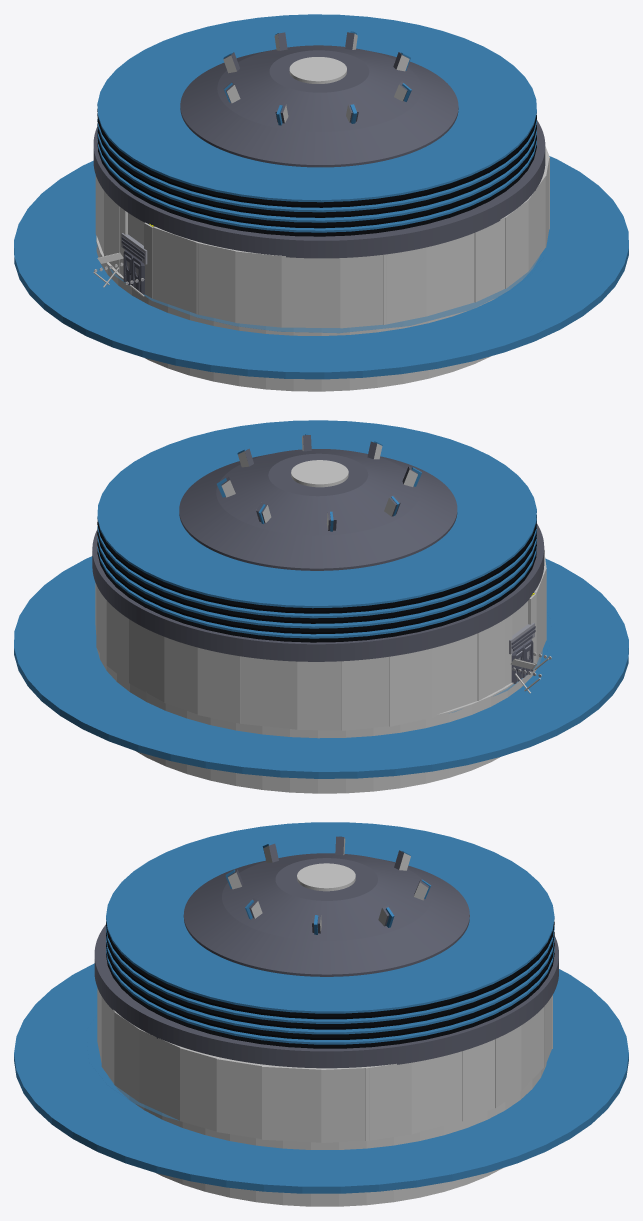
Rendered from Underground Laboratory.obj.
3 views of the same model, one above another, from view 1: azimuth 30°, elevation 25°; view 2: azimuth 150°, elevation 25°; view 3: azimuth 270°, elevation 25° (orthographic). The views are drawn at different scales.
Parts seen in each view (by area): view 1: Meshpart11, Meshpart14, Meshpart54, Meshpart12, Part81, Part83, Part17, Part87, Part31, Part29, Part85, Meshpart17 (+14 smaller); view 2: Meshpart11, Meshpart14, Meshpart54, Meshpart12, Part129, Part131, Part133, Part127, Part135, Part77, Meshpart19, Meshpart17 (+13 smaller); view 3: Meshpart11, Meshpart14, Meshpart54, Meshpart12, Part7, Part15, Part23, Part11, Part9, Part27, Meshpart15, Meshpart17 (+13 smaller).
Boxes of the visible parts, x1=… form: Meshpart11: x1=14, y1=156, x2=628, y2=379; Meshpart14: x1=97, y1=14, x2=536, y2=202; Meshpart54: x1=93, y1=45, x2=545, y2=258; Meshpart12: x1=96, y1=236, x2=539, y2=391; Part81: x1=281, y1=256, x2=340, y2=327; Part83: x1=235, y1=250, x2=281, y2=327; Part17: x1=426, y1=233, x2=474, y2=316; Part87: x1=153, y1=226, x2=199, y2=314; Part31: x1=340, y1=254, x2=386, y2=328; Part29: x1=383, y1=247, x2=426, y2=324; Part85: x1=196, y1=242, x2=235, y2=322; Meshpart17: x1=97, y1=119, x2=536, y2=217; Meshpart11: x1=14, y1=556, x2=628, y2=778; Meshpart14: x1=97, y1=420, x2=536, y2=608; Meshpart54: x1=92, y1=449, x2=544, y2=661; Meshpart12: x1=97, y1=649, x2=542, y2=793; Part129: x1=240, y1=656, x2=297, y2=729; Part131: x1=341, y1=657, x2=389, y2=730; Part133: x1=432, y1=633, x2=477, y2=717; Part127: x1=297, y1=661, x2=341, y2=730; Part135: x1=389, y1=648, x2=431, y2=726; Part77: x1=197, y1=647, x2=240, y2=723; Meshpart19: x1=97, y1=535, x2=536, y2=634; Meshpart17: x1=97, y1=525, x2=536, y2=623; Meshpart11: x1=14, y1=963, x2=628, y2=1193; Meshpart14: x1=106, y1=822, x2=554, y2=1013; Meshpart54: x1=94, y1=853, x2=558, y2=1068; Meshpart12: x1=108, y1=1063, x2=546, y2=1206; Part7: x1=262, y1=1064, x2=321, y2=1142; Part15: x1=411, y1=1051, x2=462, y2=1134; Part23: x1=216, y1=1057, x2=262, y2=1138; Part11: x1=365, y1=1062, x2=411, y2=1141; Part9: x1=321, y1=1066, x2=369, y2=1142; Part27: x1=139, y1=1029, x2=181, y2=1120; Meshpart15: x1=106, y1=921, x2=554, y2=1019; Meshpart17: x1=106, y1=931, x2=554, y2=1029.
Size of the model in its own units: 247 by 101 by 240.
